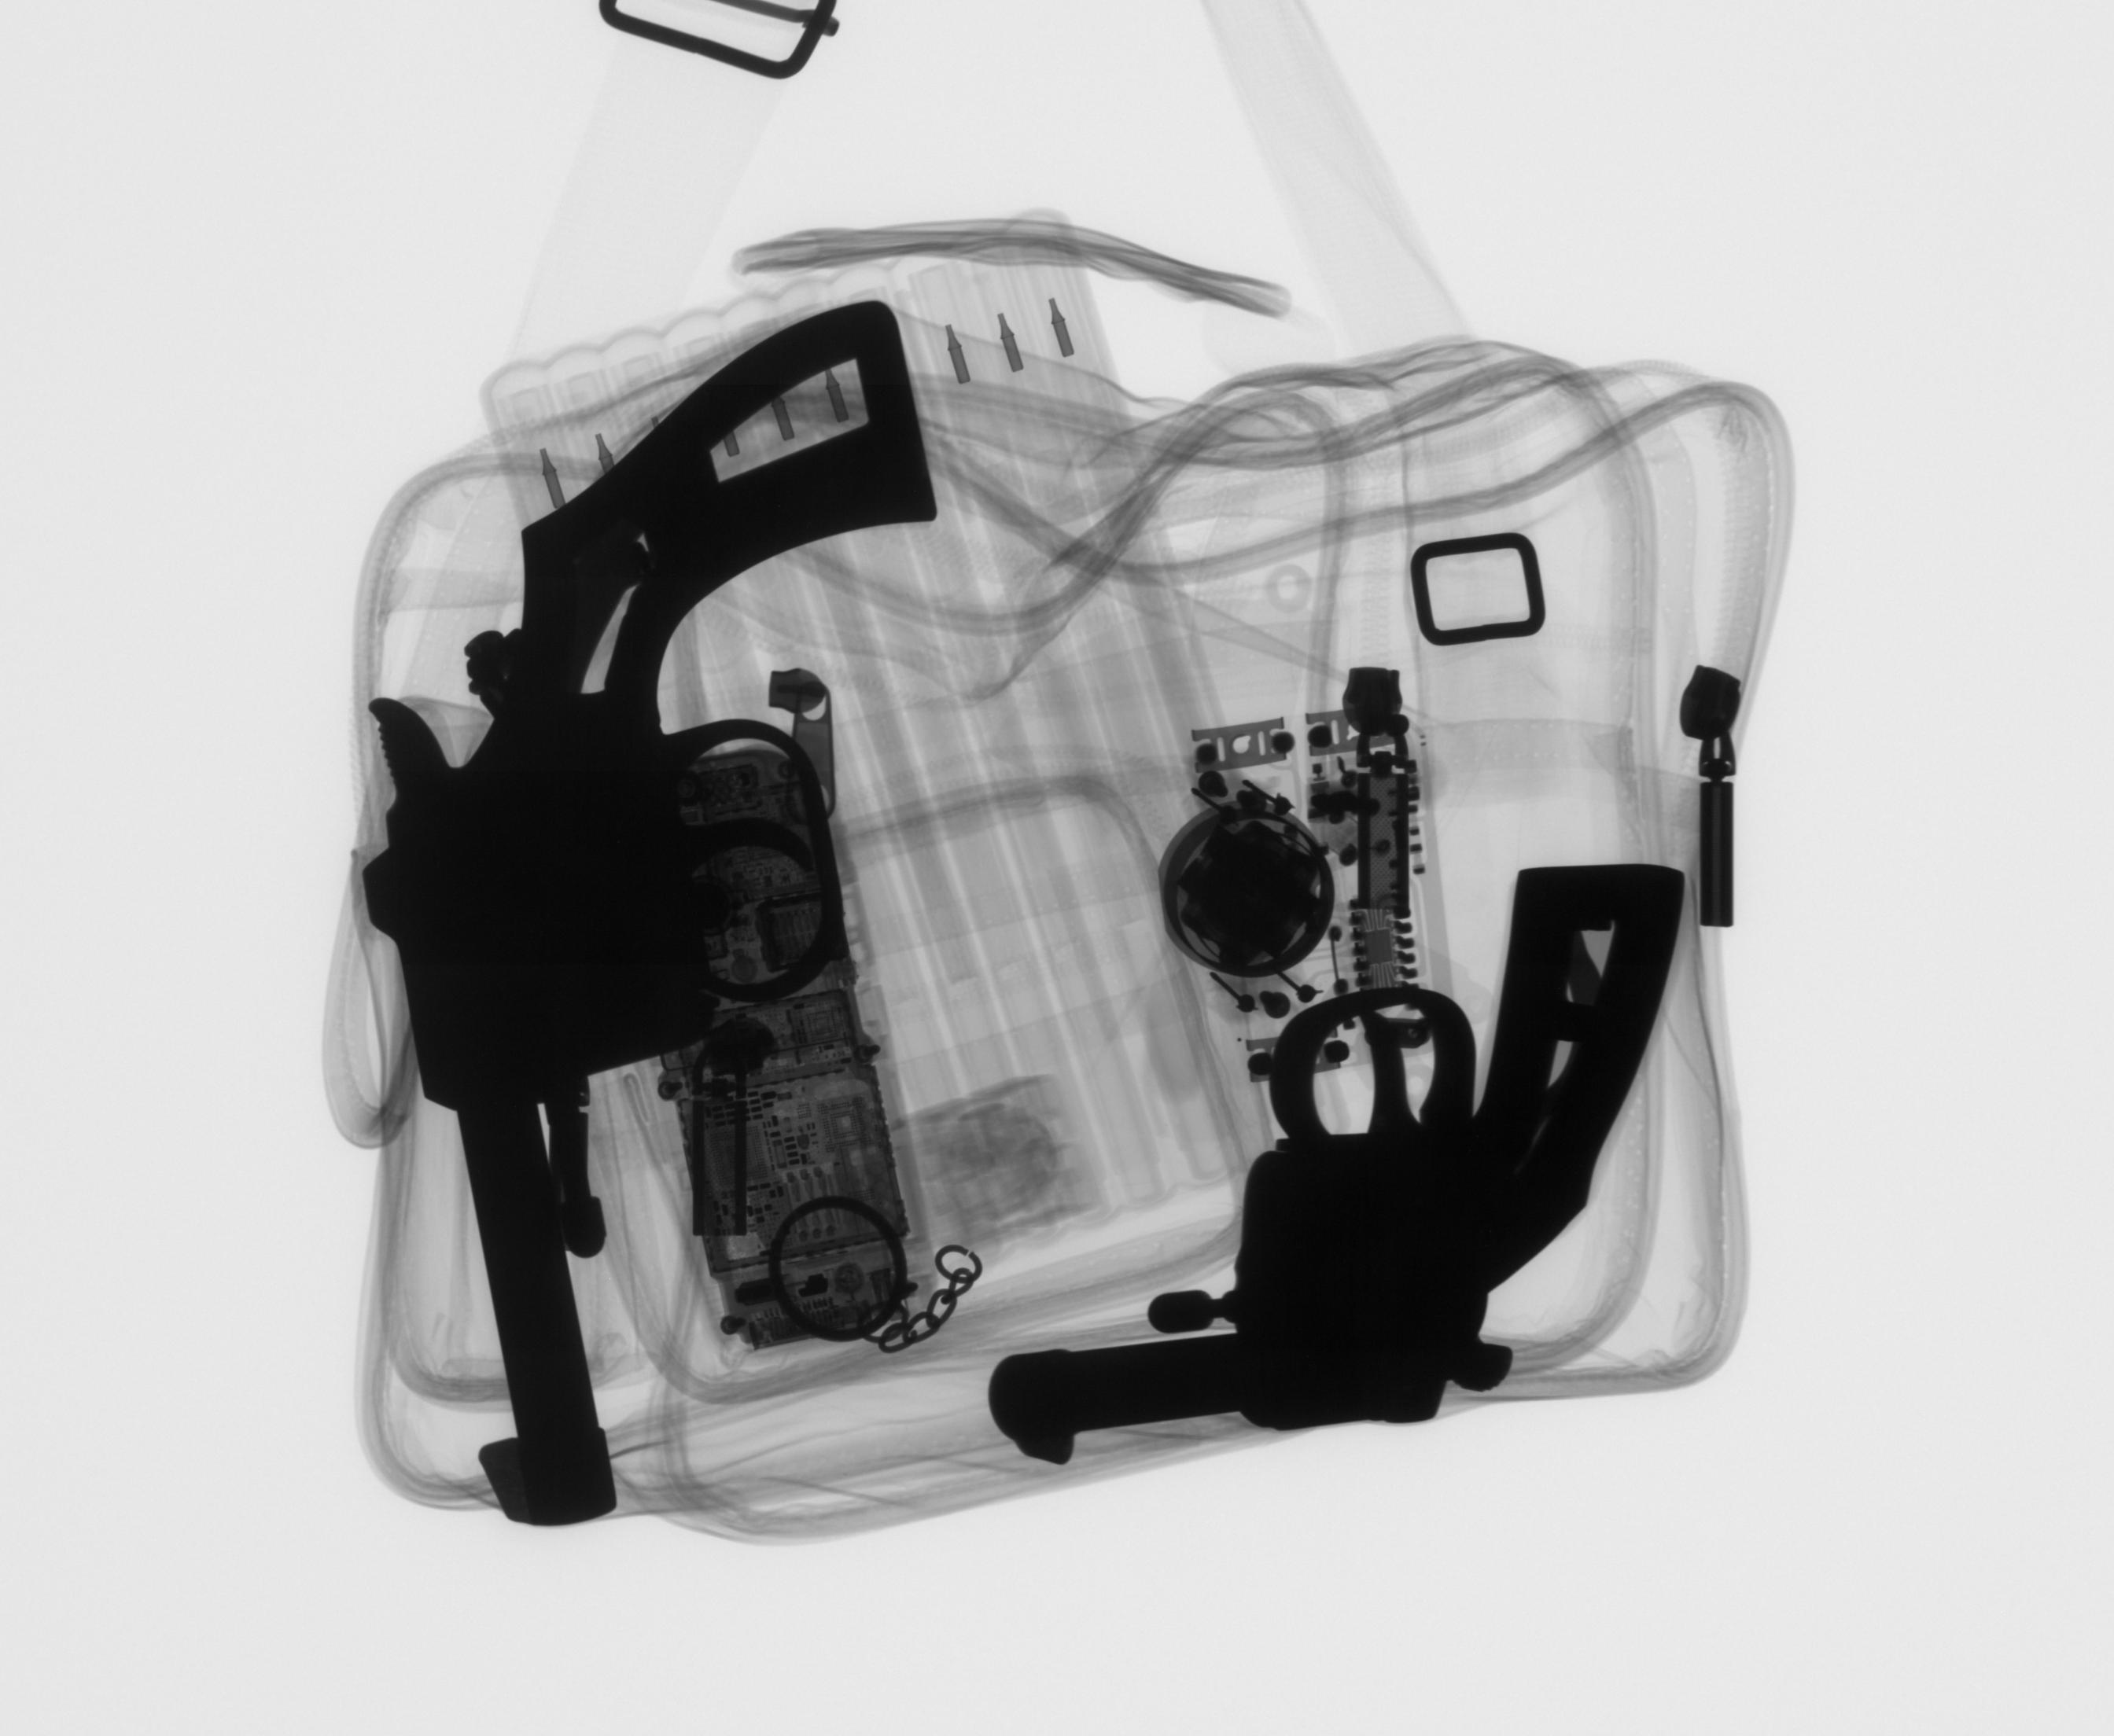Handgun: (355, 289, 948, 1536), (974, 854, 1692, 1478)
